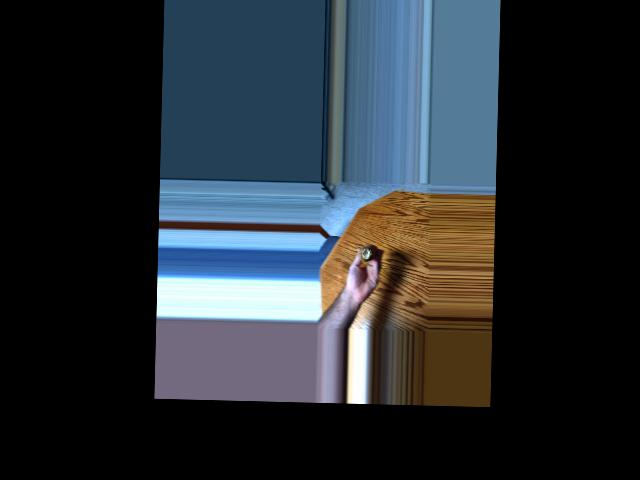sweet_potato: (357, 241, 373, 261)
